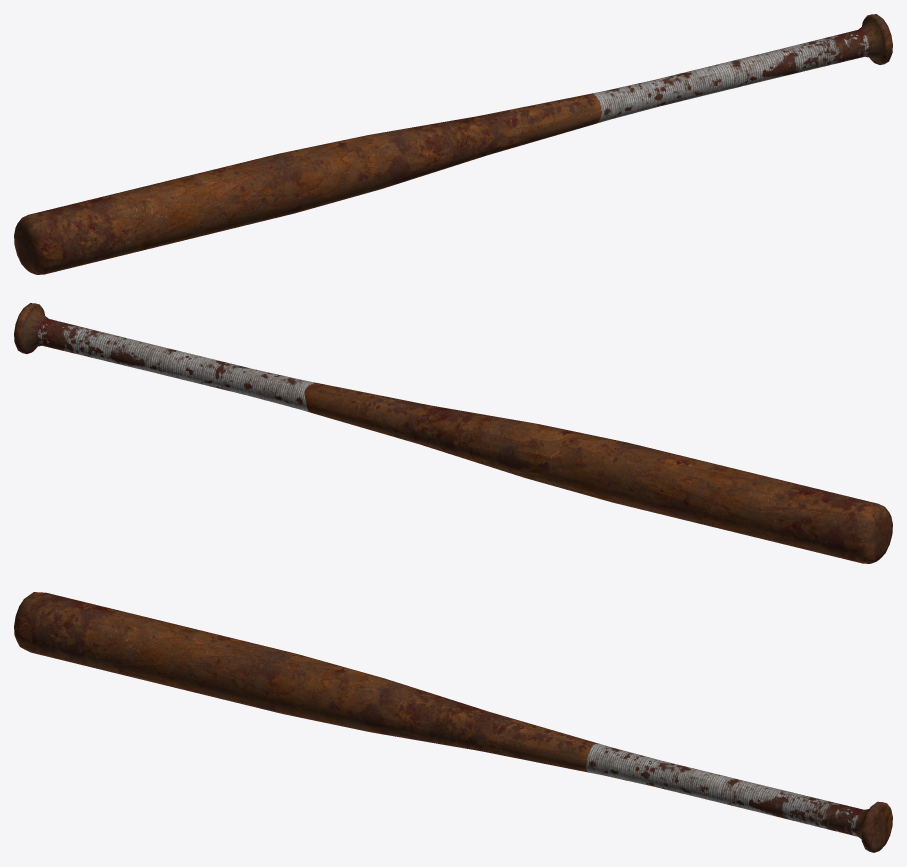
File: Bate.obj
3 renders of one model, top to bottom at view 1: azimuth 30°, elevation 25°; view 2: azimuth 150°, elevation 25°; view 3: azimuth 330°, elevation 25°, orthographic.
Visible parts, largest first — view 1: Bate; view 2: Bate; view 3: Bate.
Boxes of the visible parts, left/top/right/bottom form: Bate: left=14, top=14, right=892, bottom=274; Bate: left=14, top=303, right=892, bottom=563; Bate: left=14, top=592, right=892, bottom=852.
Bounding box in the file's own units: 5.33 × 0.332 × 0.3338.
Materials: 1 (1 with a texture image).
